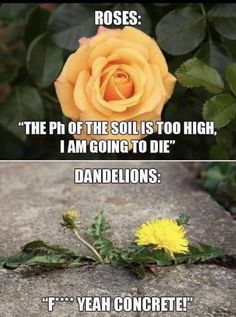dandelion: (130, 219, 185, 253)
